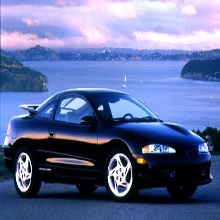no damage: (4, 87, 213, 201)
